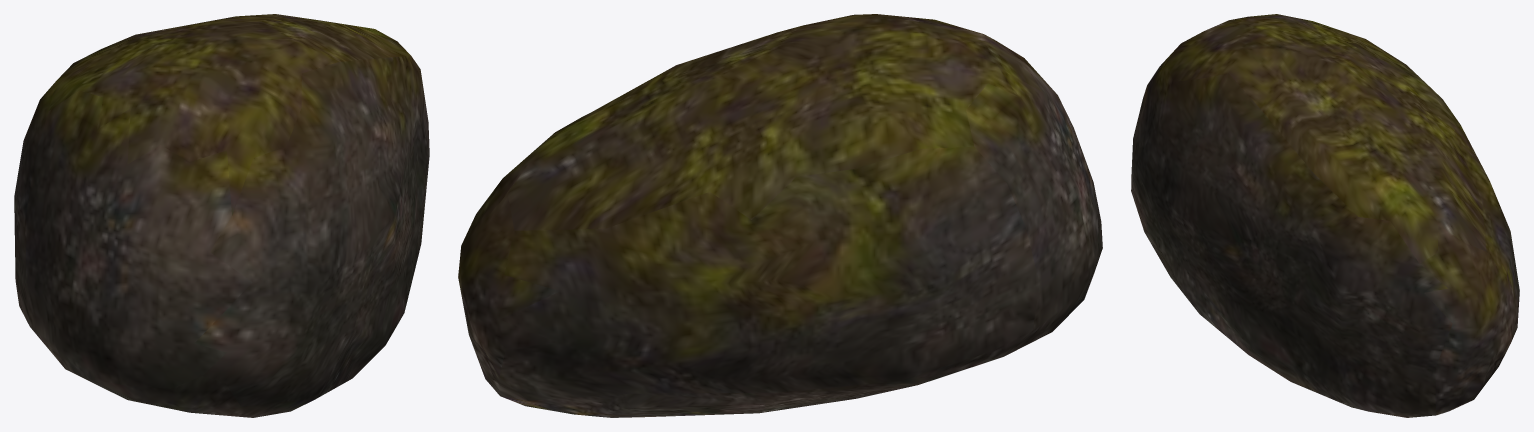
The model's file is mossy-stones-c.lod0.glb.
The picture shows the model from 3 angles, left to right: view 1: azimuth 30°, elevation 25°; view 2: azimuth 150°, elevation 25°; view 3: azimuth 270°, elevation 25°; orthographic projection. The views are drawn at different scales.
Parts seen in each view (by area): view 1: defaultMaterial; view 2: defaultMaterial; view 3: defaultMaterial.
Part boxes in pixels (x1,y1,x2,y2): defaultMaterial: (14,14,429,417); defaultMaterial: (458,14,1102,417); defaultMaterial: (1131,14,1519,417).
Bounding box in the file's own units: 1 × 0.7409 × 0.8899.
1 material, 1 textured.
